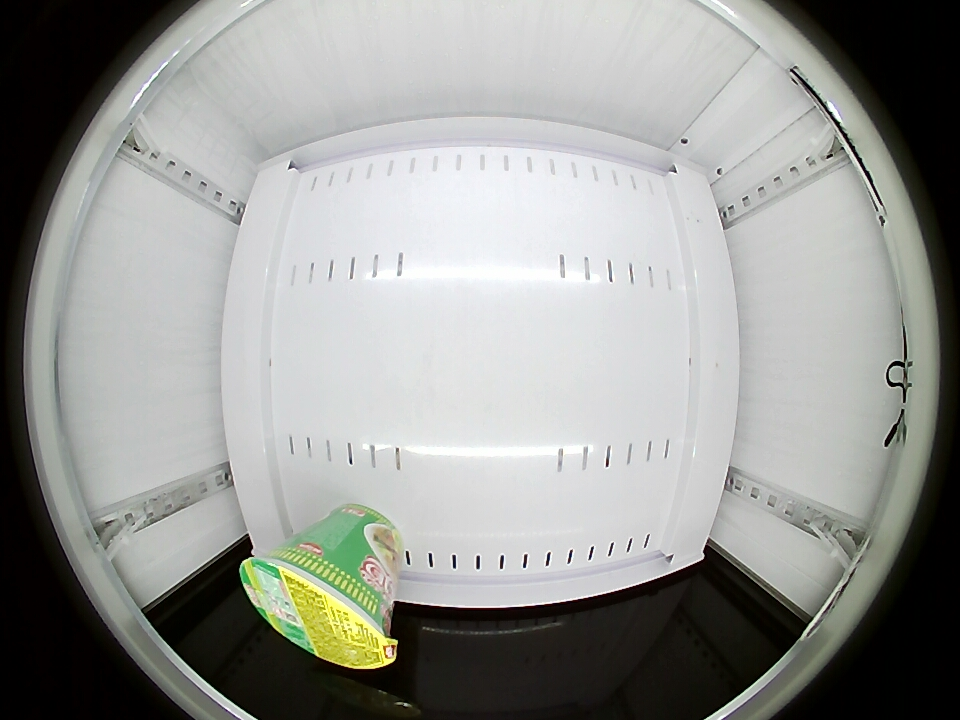heweidao2: (239, 540, 395, 669)
